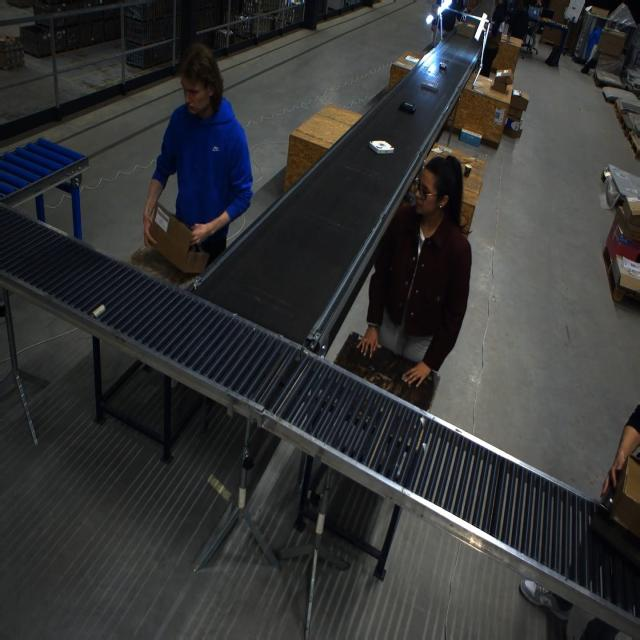box: (136, 202, 234, 276), (603, 451, 639, 547), (614, 201, 639, 245), (597, 28, 625, 56), (508, 87, 530, 117), (540, 24, 564, 46), (455, 19, 477, 40), (491, 70, 511, 93), (503, 117, 523, 139), (588, 6, 609, 18)
product: (368, 139, 393, 154), (398, 101, 416, 114), (421, 80, 438, 92), (439, 62, 447, 71)
